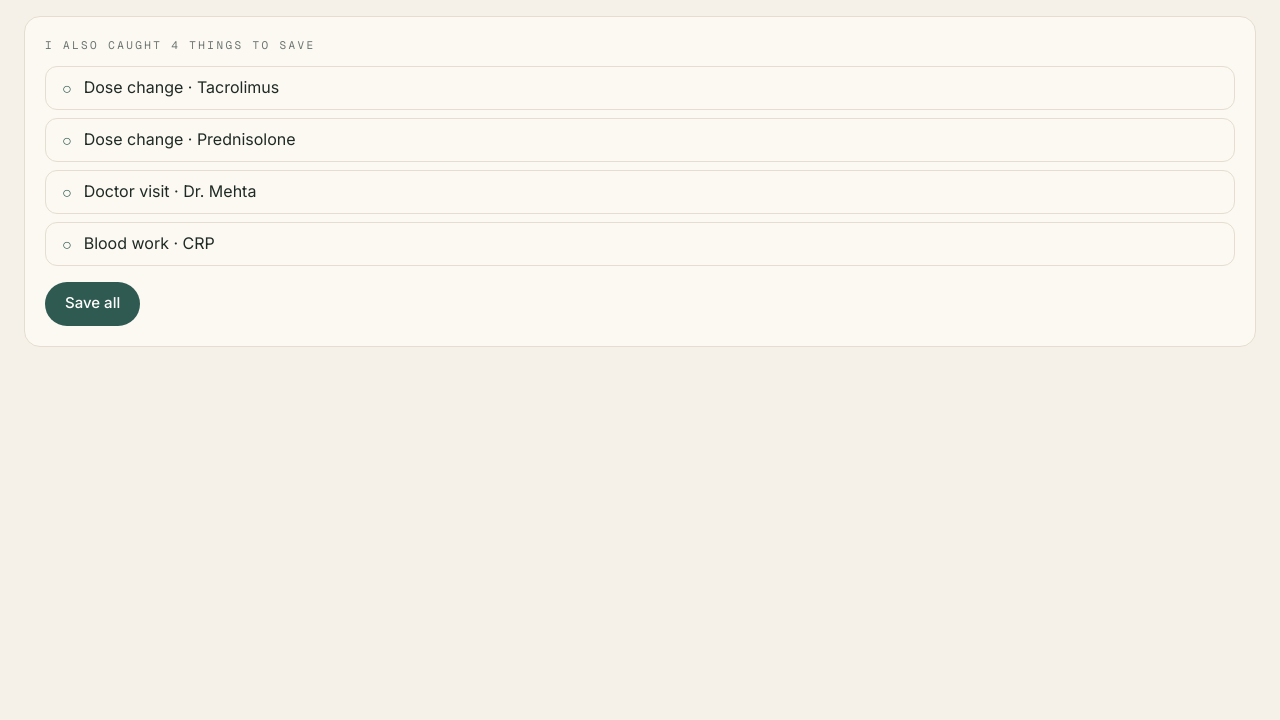
Test case: <ConfirmCardStack /> — N≥4 grouped presentation › expands one row at a time into the full card
Click the button with test id "confirm-card-group-row-v-1".
click(170, 191)  # box [45,170,1235,214]
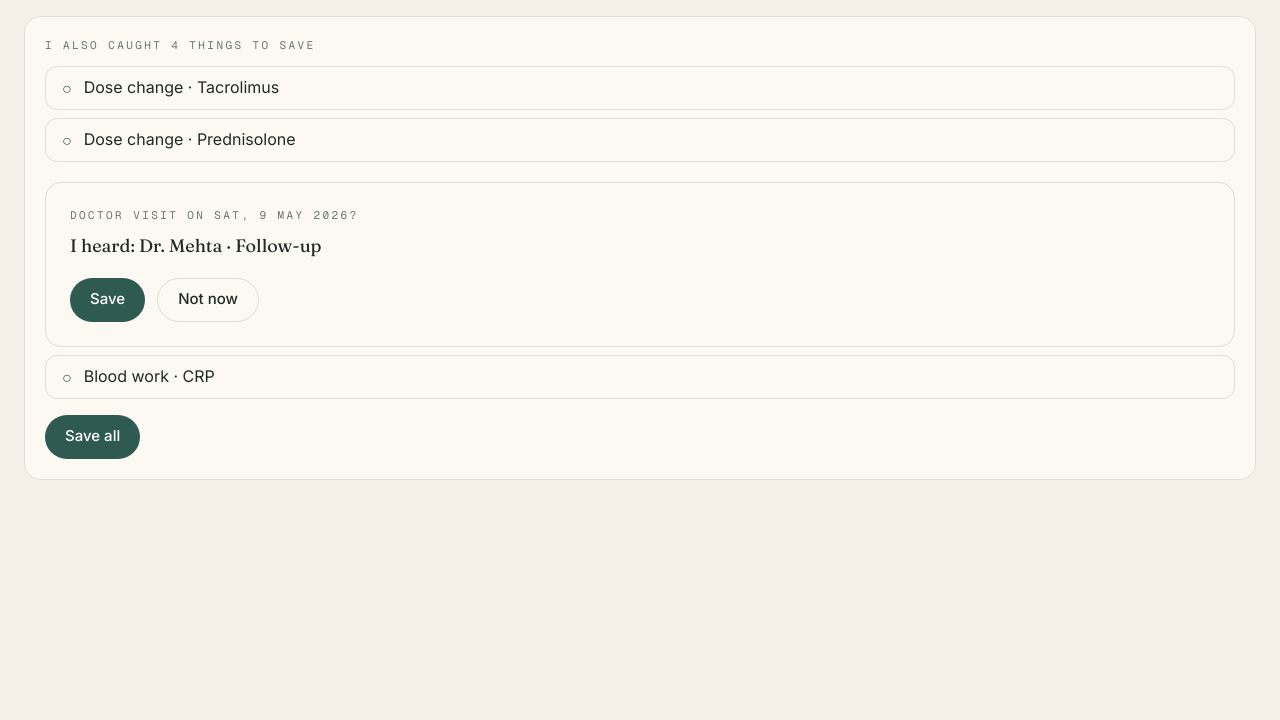
Check: the element with test id "confirm-card-visit" is shown, box [45,182,1235,346]
Click the button with test id "confirm-card-group-row-bw-1".
click(149, 376)  # box [45,354,1235,398]
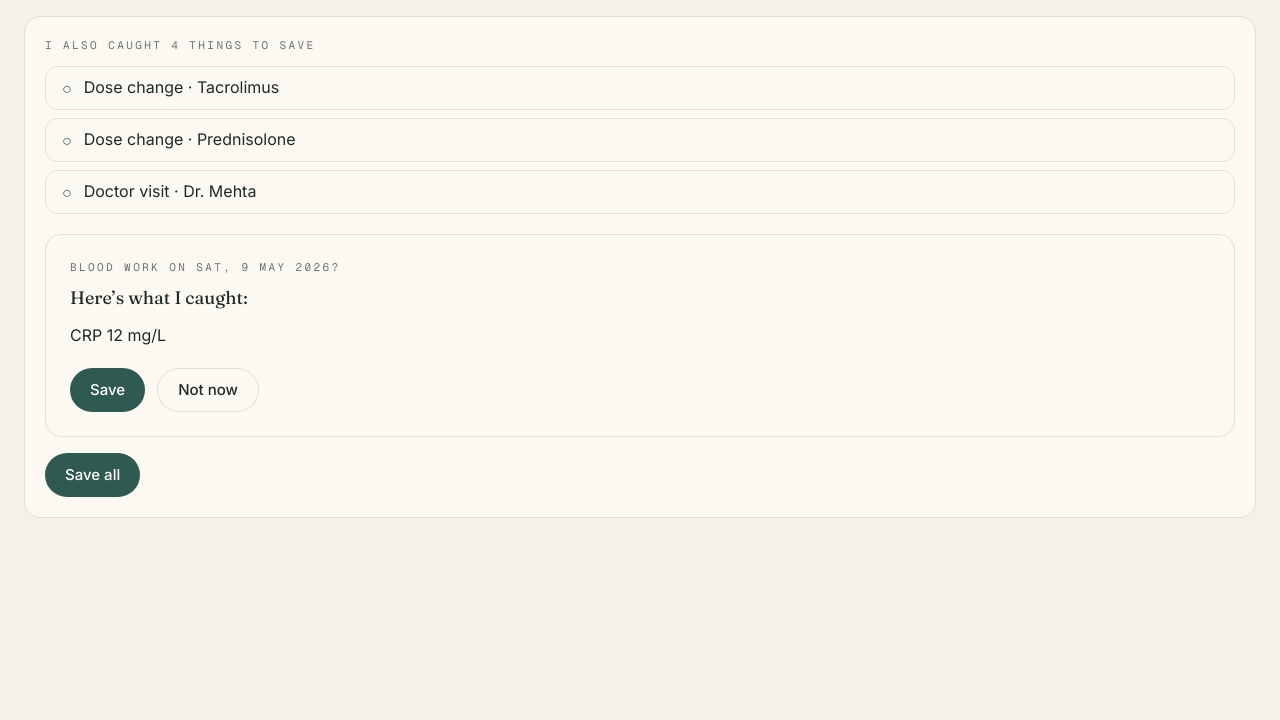
Check: the element with test id "confirm-card-blood-work" is shown, box [45,234,1235,437]
Check: the element with test id "confirm-card-visit" is gone
